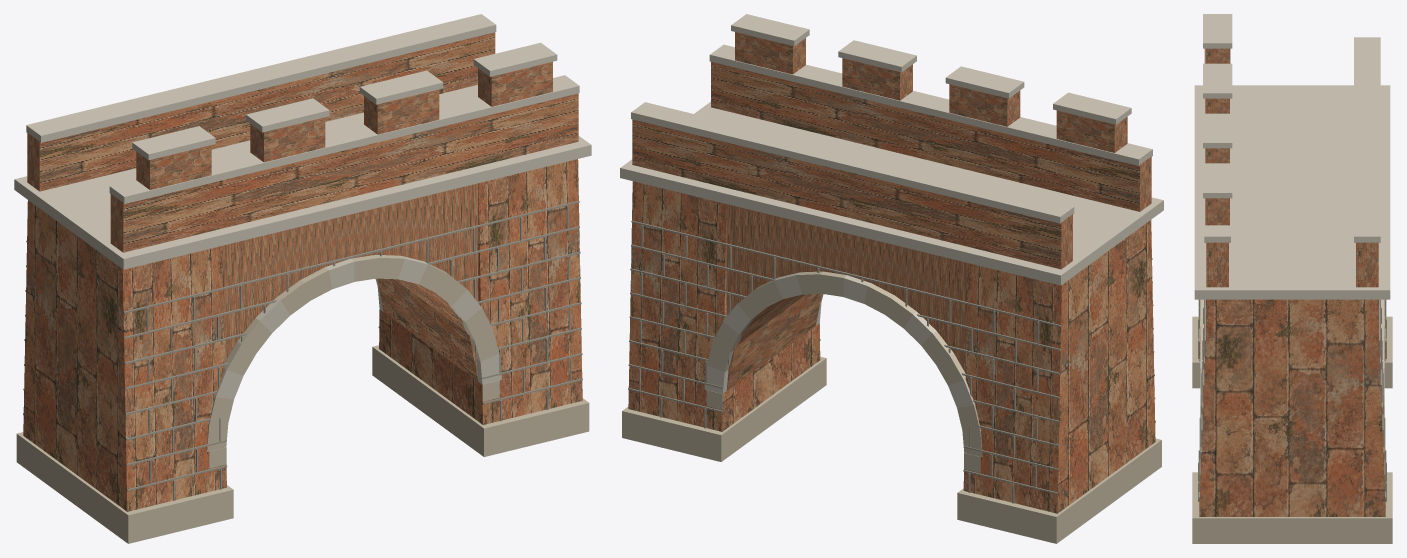
The picture shows the model from 3 angles, left to right: view 1: azimuth 30°, elevation 25°; view 2: azimuth 150°, elevation 25°; view 3: azimuth 270°, elevation 25°; orthographic projection. The views are drawn at different scales.
Parts seen in each view (by area): view 1: water-arch__painted_city_brick, water-arch__stone_cap, water-arch__warm_limestone, water-arch__mortar_ink; view 2: water-arch__painted_city_brick, water-arch__stone_cap, water-arch__warm_limestone, water-arch__mortar_ink; view 3: water-arch__painted_city_brick, water-arch__stone_cap, water-arch__warm_limestone, water-arch__mortar_ink.
Boxes of the visible parts, left/top/right/bottom form: water-arch__painted_city_brick: left=23, top=32, right=582, bottom=511; water-arch__stone_cap: left=14, top=14, right=591, bottom=399; water-arch__warm_limestone: left=16, top=254, right=589, bottom=543; water-arch__mortar_ink: left=23, top=200, right=582, bottom=500; water-arch__painted_city_brick: left=628, top=32, right=1155, bottom=513; water-arch__stone_cap: left=620, top=14, right=1163, bottom=407; water-arch__warm_limestone: left=622, top=271, right=1161, bottom=543; water-arch__mortar_ink: left=628, top=220, right=1155, bottom=503; water-arch__painted_city_brick: left=1199, top=48, right=1385, bottom=516; water-arch__stone_cap: left=1194, top=14, right=1390, bottom=368; water-arch__warm_limestone: left=1192, top=299, right=1392, bottom=543; water-arch__mortar_ink: left=1198, top=299, right=1386, bottom=501.
Bounding box in the file's own units: 8.22 × 6.36 × 3.4.
Materials: 4 (1 with a texture image).
